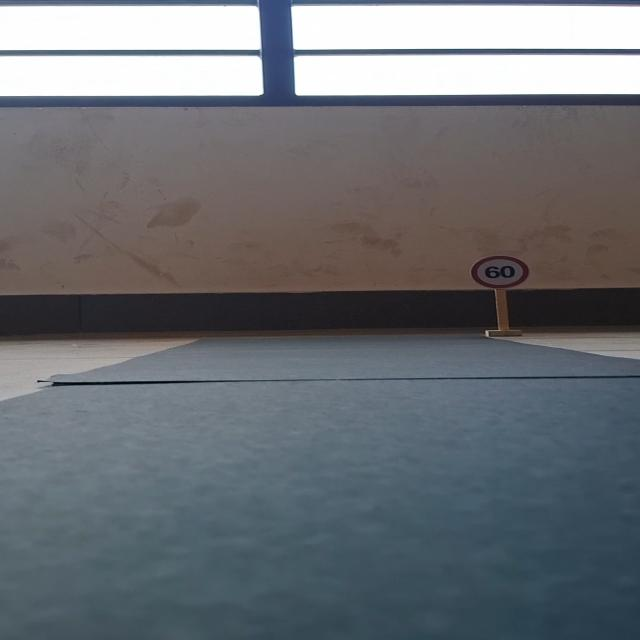Speed60: (475, 254, 528, 288)
